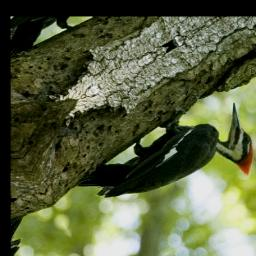Woodpecker: (70, 86, 256, 253)
